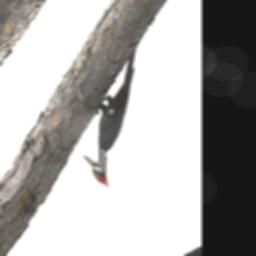Woodpecker: (76, 46, 166, 197)
